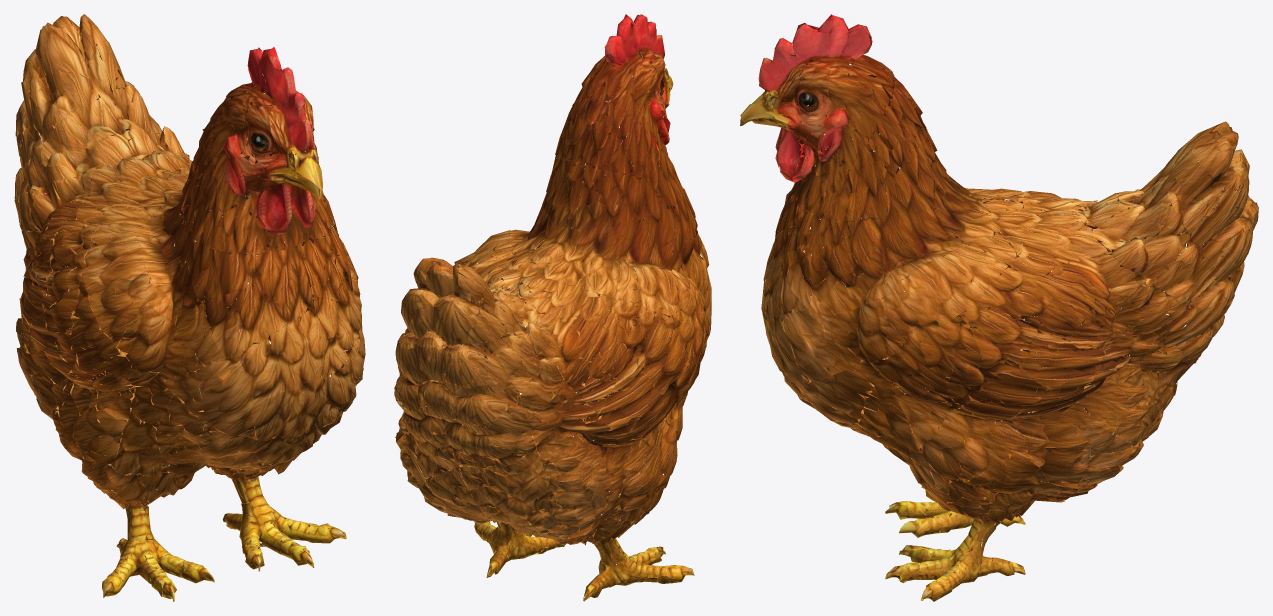
File: a146_tavuk_gercekci.glb
3 views of the same model, side by side, from view 1: azimuth 30°, elevation 25°; view 2: azimuth 150°, elevation 25°; view 3: azimuth 270°, elevation 25° (orthographic). The views are drawn at different scales.
Visible parts, largest first — view 1: Mesh_0; view 2: Mesh_0; view 3: Mesh_0.
Boxes of the visible parts, x1,y1,x2,y2 form: Mesh_0: (14,14,365,601); Mesh_0: (394,14,711,601); Mesh_0: (740,14,1258,601).
Bounding box in the file's own units: 0.9775 × 1.91 × 1.67.
1 material, 1 textured.
